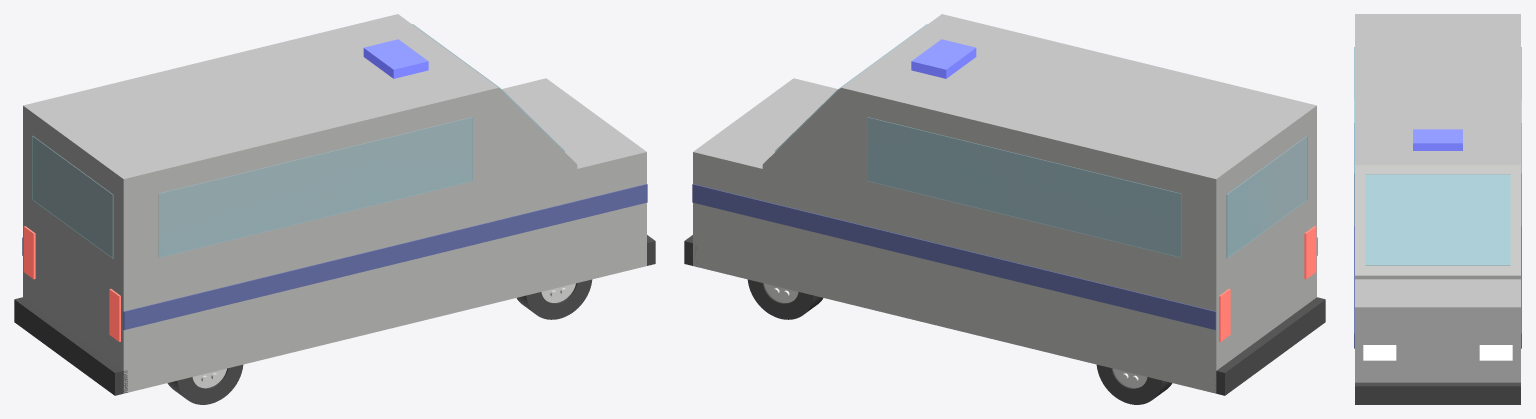
Rendered from crew-van.glb.
3 views of the same model, side by side, from view 1: azimuth 30°, elevation 25°; view 2: azimuth 150°, elevation 25°; view 3: azimuth 270°, elevation 25° (orthographic). The views are drawn at different scales.
Visible parts, largest first — view 1: body, windows, stripe, bumpers, roof-light, wheel-1r-tire, wheel-2r-tire, tail-lights; view 2: body, windows, stripe, bumpers, roof-light, wheel-1l-tire, wheel-2l-tire, tail-lights; view 3: body, windows, bumpers, roof-light, headlights, stripe.
Part boxes in pixels (box(x1,y1,x2,y2)): body: box(23, 14, 646, 393); windows: box(32, 24, 564, 258); stripe: box(22, 184, 647, 329); bumpers: box(14, 235, 655, 395); roof-light: box(363, 39, 428, 78); wheel-1r-tire: box(516, 279, 592, 319); wheel-2r-tire: box(167, 364, 243, 404); tail-lights: box(23, 226, 120, 341); body: box(693, 14, 1316, 393); windows: box(775, 24, 1307, 258); stripe: box(692, 184, 1317, 329); bumpers: box(684, 235, 1325, 395); roof-light: box(911, 39, 976, 78); wheel-1l-tire: box(747, 279, 823, 319); wheel-2l-tire: box(1096, 364, 1172, 404); tail-lights: box(1219, 226, 1316, 341); body: box(1355, 14, 1520, 382); windows: box(1354, 47, 1521, 265); bumpers: box(1355, 382, 1520, 404); roof-light: box(1413, 129, 1462, 150); headlights: box(1363, 345, 1512, 360); stripe: box(1354, 123, 1521, 348).
Size of the model in its own units: 6.2 by 2.8 by 2.02.
